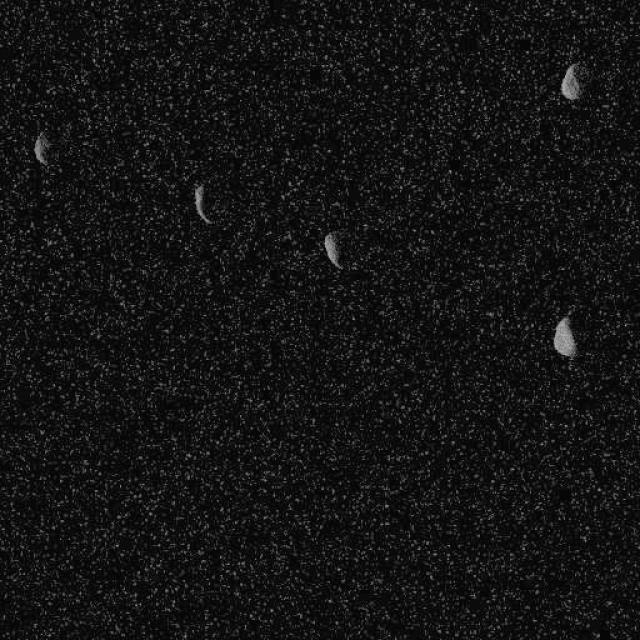D2: (552, 315, 578, 357), (559, 60, 585, 100), (192, 183, 212, 225), (322, 230, 342, 270), (32, 130, 50, 166)
